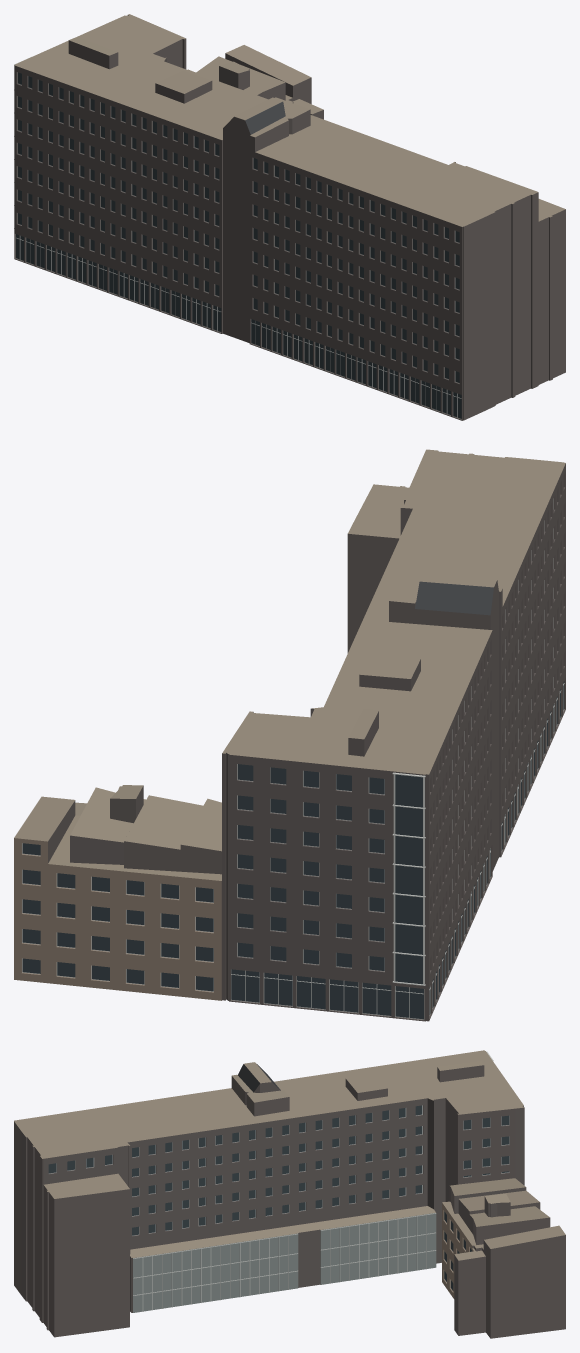
File: recipe-large-weesperstraat-107-165490.glb
The picture shows the model from 3 angles, top to bottom: view 1: azimuth 30°, elevation 25°; view 2: azimuth 150°, elevation 25°; view 3: azimuth 270°, elevation 25°; orthographic projection. The views are drawn at different scales.
Visible parts, largest first — view 1: weesperstraat-107-165490; view 2: weesperstraat-107-165490; view 3: weesperstraat-107-165490.
Part boxes in pixels (x1=…): weesperstraat-107-165490: x1=14, y1=14, x2=565, y2=420; weesperstraat-107-165490: x1=14, y1=449, x2=565, y2=1021; weesperstraat-107-165490: x1=14, y1=1050, x2=565, y2=1338.
Size of the model in its own units: 50.71 by 35.64 by 95.13.
